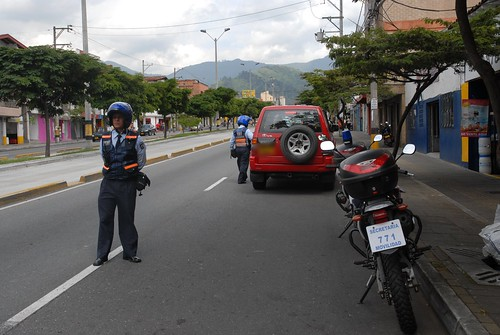car: (253, 102, 339, 197)
motorcycle: (337, 154, 427, 331)
mountain: (169, 45, 284, 73)
policeman: (92, 98, 149, 271), (229, 117, 255, 184)
sky: (35, 1, 325, 59)
street: (5, 133, 441, 335)
tree: (336, 20, 496, 195)
vegetation: (1, 48, 228, 132)
